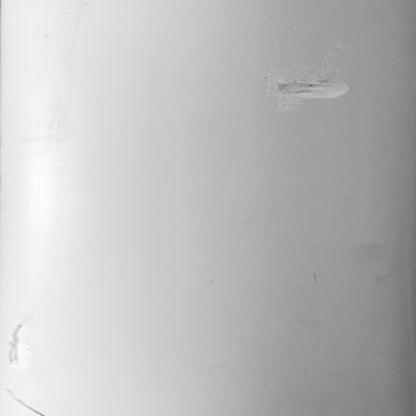sunshang: (273, 62, 352, 113), (5, 310, 28, 372), (7, 387, 47, 416)
